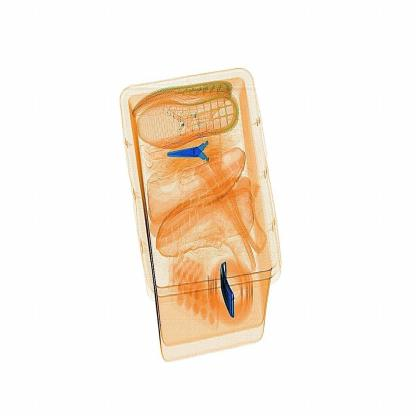gun: (162, 122, 233, 176)
